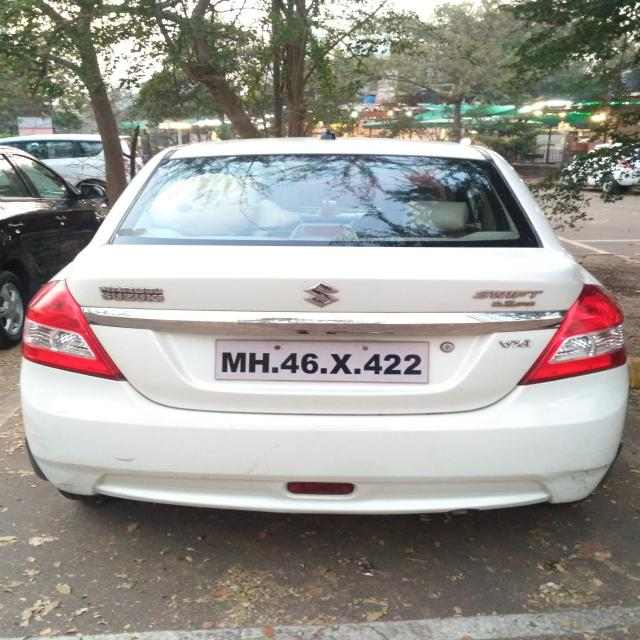Number-Plate: (215, 340, 435, 384)
